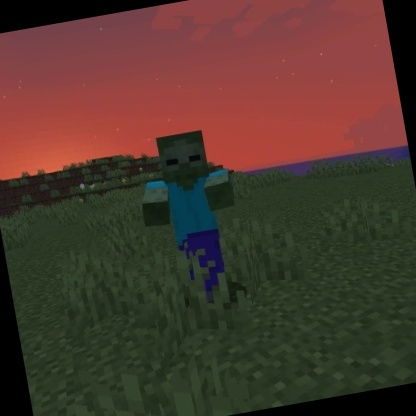zombie: (125, 123, 255, 317)
